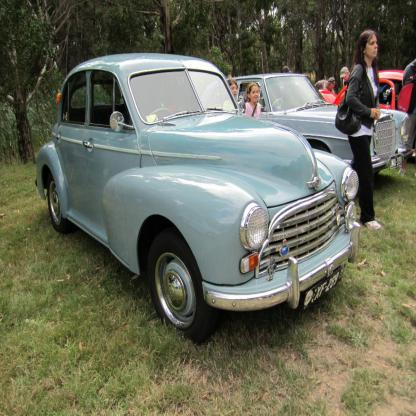Car: (36, 51, 360, 337), (226, 74, 412, 179), (320, 69, 414, 112)
